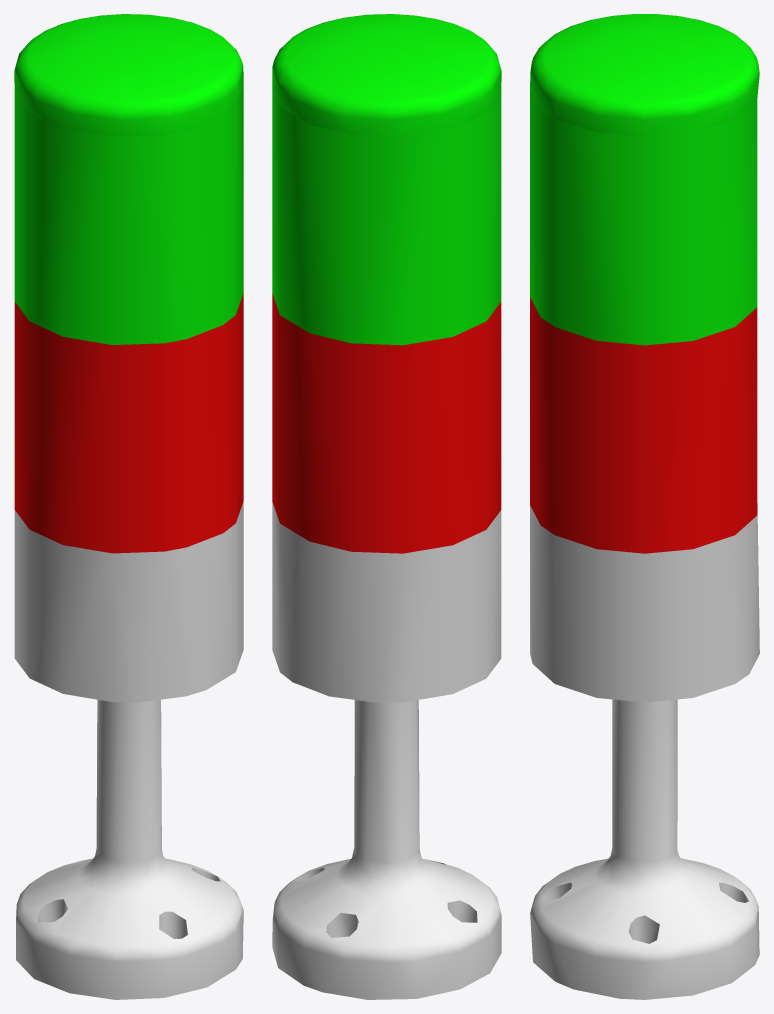
File: SignalLamp.fbx
3 views of the same model, side by side, from view 1: azimuth 30°, elevation 25°; view 2: azimuth 150°, elevation 25°; view 3: azimuth 270°, elevation 25° (orthographic).
Parts seen in each view (by area): view 1: Signallampe_2.002, Signallampe_2.001, Signallampe_2; view 2: Signallampe_2.002, Signallampe_2.001, Signallampe_2; view 3: Signallampe_2.002, Signallampe_2.001, Signallampe_2.
Boxes of the visible parts, left/top/right/bottom form: Signallampe_2.002: left=14, top=501, right=243, bottom=999; Signallampe_2.001: left=14, top=14, right=243, bottom=344; Signallampe_2: left=14, top=293, right=243, bottom=553; Signallampe_2.002: left=272, top=502, right=501, bottom=999; Signallampe_2.001: left=272, top=14, right=501, bottom=345; Signallampe_2: left=272, top=294, right=501, bottom=553; Signallampe_2.002: left=530, top=503, right=759, bottom=999; Signallampe_2.001: left=530, top=14, right=759, bottom=345; Signallampe_2: left=530, top=297, right=757, bottom=553.
Size of the model in its own units: 7 by 7 by 30.3.
